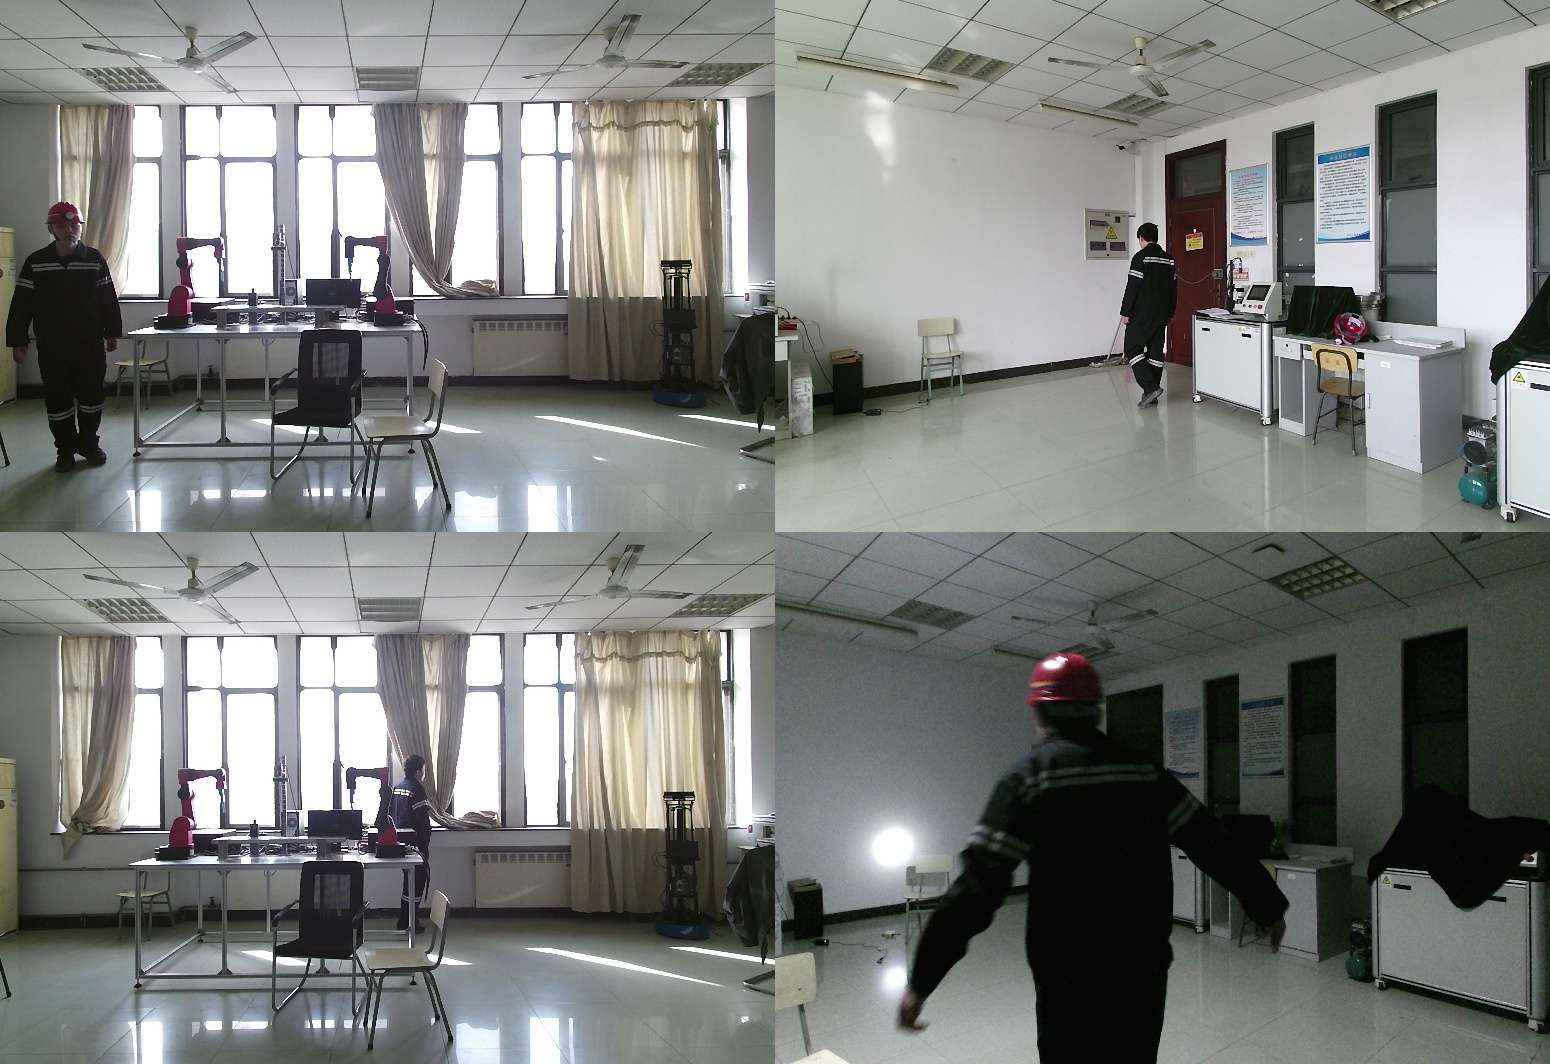person: (904, 650, 1308, 1064), (5, 205, 124, 474), (1120, 224, 1183, 414), (394, 754, 440, 945)
